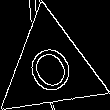O_SE: (20, 34, 81, 101)
